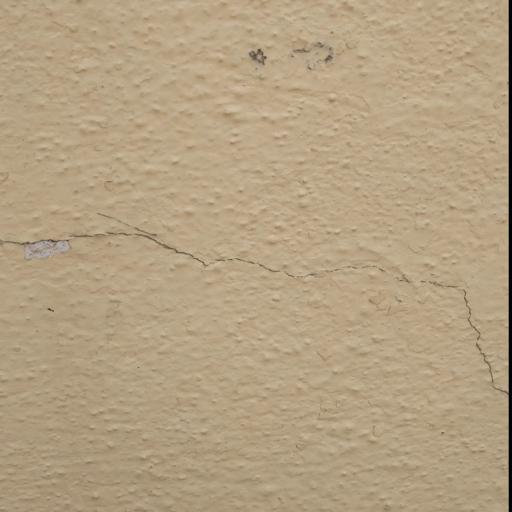minor_crack: (0, 190, 512, 414)
